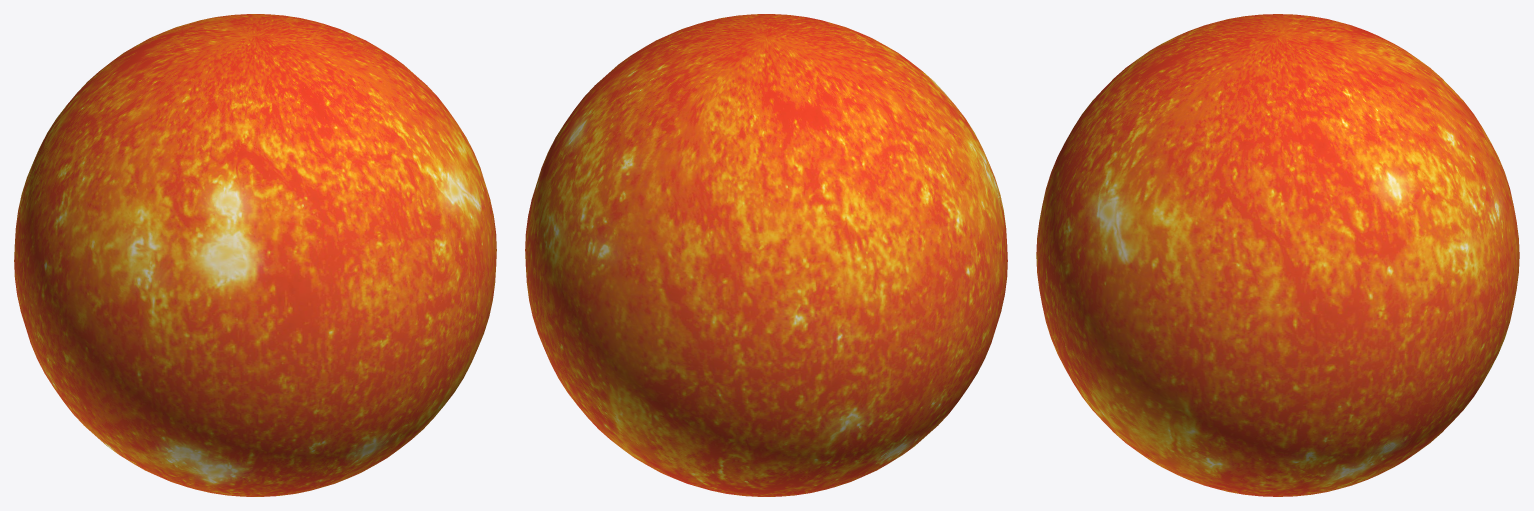
3 renders of one model, left to right at view 1: azimuth 30°, elevation 25°; view 2: azimuth 150°, elevation 25°; view 3: azimuth 270°, elevation 25°, orthographic.
Visible parts, largest first — view 1: sun_GEO_n3d; view 2: sun_GEO_n3d; view 3: sun_GEO_n3d.
Part boxes in pixels (left/top/right/bottom): sun_GEO_n3d: left=14, top=14, right=496, bottom=496; sun_GEO_n3d: left=525, top=14, right=1007, bottom=496; sun_GEO_n3d: left=1036, top=14, right=1519, bottom=496.
Size of the model in its own units: 4.95 by 4.95 by 4.95.
Materials: 1 (1 with a texture image).
